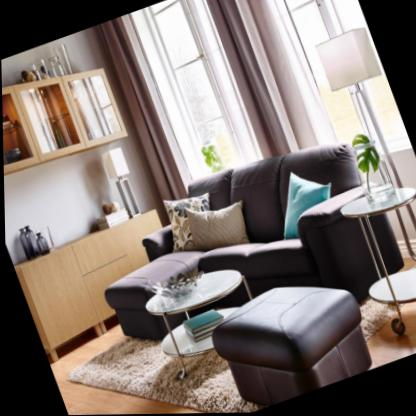Sofa: (74, 121, 409, 370)
